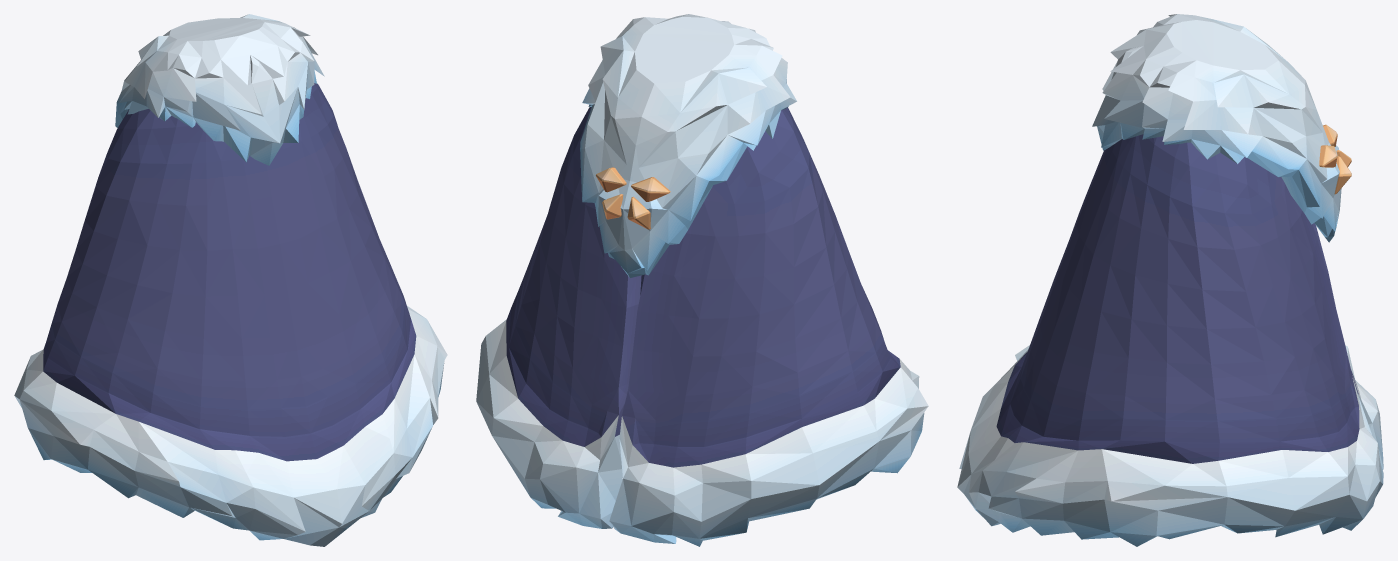
File: CharSkyKid_Wing_APJuggler_01.glb
3 renders of one model, left to right at view 1: azimuth 30°, elevation 25°; view 2: azimuth 150°, elevation 25°; view 3: azimuth 270°, elevation 25°, orthographic. The views are drawn at different scales.
Parts seen in each view (by area): view 1: CharSkyKid_Wing_APJuggler_01; view 2: CharSkyKid_Wing_APJuggler_01; view 3: CharSkyKid_Wing_APJuggler_01.
Boxes of the visible parts, x1,y1,x2,y2 form: CharSkyKid_Wing_APJuggler_01: (14,14,447,546); CharSkyKid_Wing_APJuggler_01: (476,14,928,546); CharSkyKid_Wing_APJuggler_01: (957,14,1383,546).
Bounding box in the file's own units: 6.84 × 7.7 × 6.14.
Materials: 1 (1 with a texture image).
